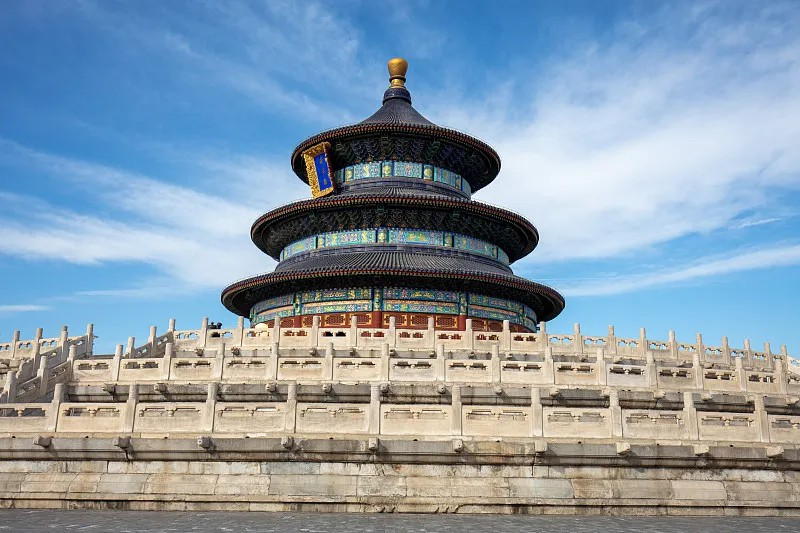Heaven: (220, 59, 564, 353)
